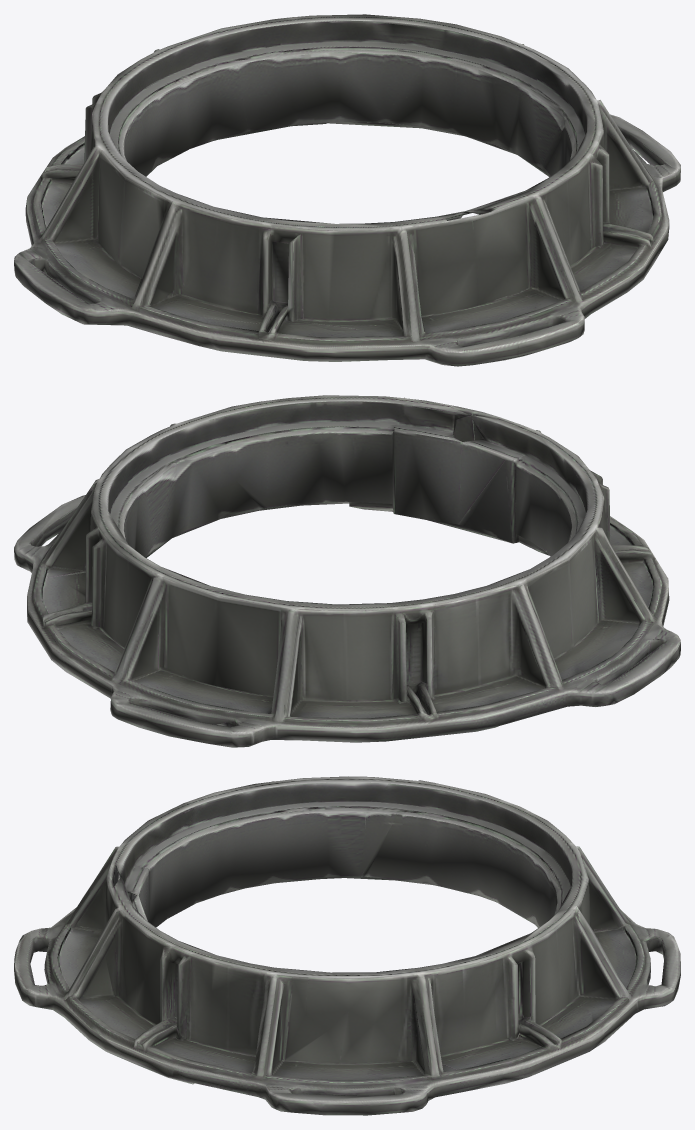
The model's file is Meshy_AI_Circular_Flange_Housi_0524111026_texture.fbx.
The picture shows the model from 3 angles, top to bottom: view 1: azimuth 30°, elevation 25°; view 2: azimuth 150°, elevation 25°; view 3: azimuth 270°, elevation 25°; orthographic projection. The views are drawn at different scales.
Visible parts, largest first — view 1: Mesh_0; view 2: Mesh_0; view 3: Mesh_0.
Boxes of the visible parts, x1,y1,x2,y2 form: Mesh_0: (14, 14, 680, 366); Mesh_0: (14, 395, 680, 747); Mesh_0: (14, 776, 680, 1115).
Size of the model in its own units: 191 by 31.14 by 191.
Materials: 1 (1 with a texture image).
